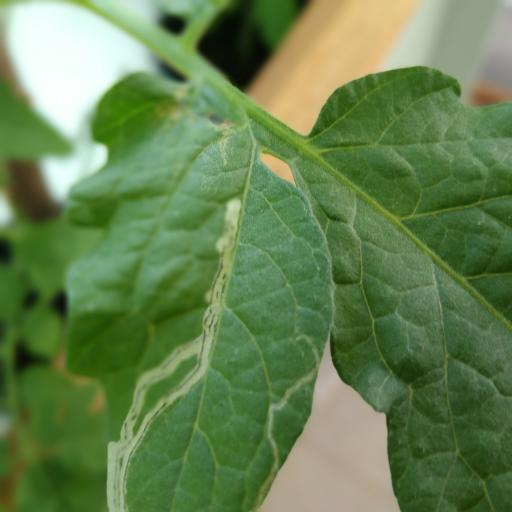Leaf_Miner: (53, 112, 337, 512)
